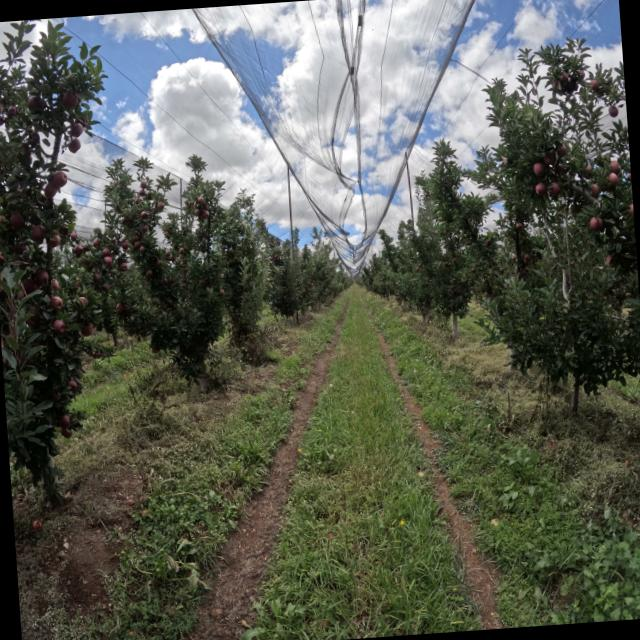-FireBlight-: (18, 279, 26, 300), (9, 323, 15, 340), (0, 271, 4, 280), (1, 337, 3, 348)
